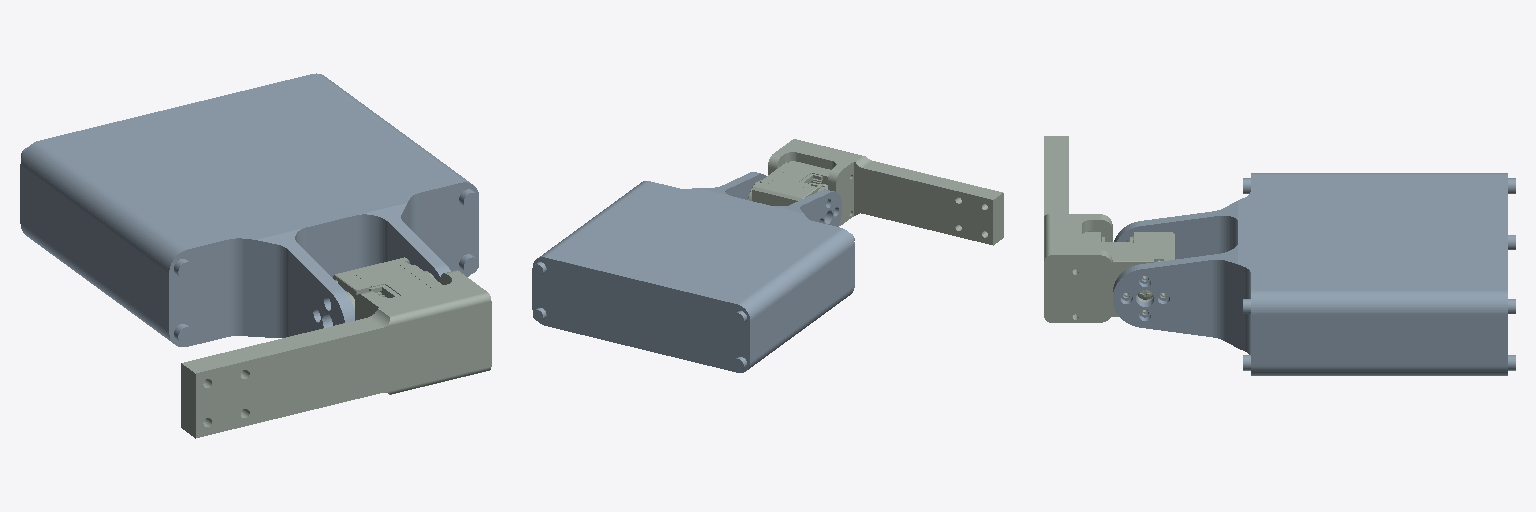
The robot description file, URDF, robot "sysID_XC330":
<?xml version="1.0" ?><robot name="sysID_XC330">  
  <link name="xc330">    
    <visual>      
      <origin xyz="0 0 0" rpy="0 -0 0"/>      
      <geometry>        
        <mesh filename="package:///meshes/xc330_visual.stl"/>        
      </geometry>      
      <material name="xc330_material">        
        <color rgba="0.66223384147661523702 0.70298350489095318139 0.66642745066522124375 1.0"/>        
      </material>      
    </visual>    
    <collision>      
      <origin xyz="0 0 0" rpy="0 -0 0"/>      
      <geometry>        
        <mesh filename="package:///meshes/xc330_collision.stl"/>        
      </geometry>      
    </collision>    
    <inertial>      
      <origin xyz="0.067045862671275713307 0.0086608910511881617711 0.0041222017357433436702" rpy="0 0 0"/>      
      <mass value="0.0337537472645257422"/>      
      <inertia ixx="6.4808662584696893666e-06" ixy="-4.1297757912061735342e-06" ixz="3.5490498700440220868e-07" iyy="1.5492252679530571979e-05" iyz="3.1297490799071719933e-07" izz="1.9627489127736090014e-05"/>      
    </inertial>    
  </link>  

  <link name="arm_330">    
    <visual>      
      <origin xyz="0 0 0" rpy="0 -0 0"/>      
      <geometry>        
        <mesh filename="package:///meshes/arm_330_visual.stl"/>        
      </geometry>      
      <material name="arm_330_material">        
        <color rgba="0.604714181969083997 0.66722689075630248201 0.72422035480858992784 1.0"/>        
      </material>      
    </visual>    
    <collision>      
      <origin xyz="0 0 0" rpy="0 -0 0"/>      
      <geometry>        
        <mesh filename="package:///meshes/arm_330_collision.stl"/>        
      </geometry>      
    </collision>    
    <inertial>      
      <origin xyz="0.069949643575130379669 -1.7693577120423160926e-17 -0.014500000000000025022" rpy="0 0 0"/>      
      <mass value="0.094500000000000014544"/>      
      <inertia ixx="9.6648053576060919279e-05" ixy="2.3028708253476290468e-20" ixz="2.3505164286306834409e-20" iyy="0.00017555912455268309937" iyz="3.899833921574180802e-16" izz="9.8086683715700140568e-05"/>      
    </inertial>    
  </link>  

  <joint name="joint_0" type="revolute">    
    <origin xyz="0.089400000000000034994 0.021949857927858897055 0.0034193959459662111658" rpy="1.5707963267948978903 -1.6653345369377634068e-16 1.5707963267948961139"/>    
    <parent link="xc330"/>    
    <child link="arm_330"/>    
    <axis xyz="0 0 1"/>    
    <limit effort="1" velocity="20" lower="-1.3962634015954635824" upper="1.3962634015954635824"/>    
    <joint_properties friction="0.0"/>    
  </joint>  


</robot>

--- What the picture shows (computed from the rendered views, not written in the file) ---
Views: 3 orthographic renders of the robot side by side, from view 1: azimuth 30°, elevation 25°; view 2: azimuth 150°, elevation 25°; view 3: azimuth 270°, elevation 25°.
Robot: sysID_XC330 — 2 links, 1 joints (1 revolute); root link xc330; default pose: every joint at zero.
Links seen in each view (by area): view 1: arm_330, xc330; view 2: arm_330, xc330; view 3: arm_330, xc330.
Boxes of the visible links, x1,y1,x2,y2 form: arm_330: (20,73,478,346); xc330: (181,257,491,438); arm_330: (532,172,854,372); xc330: (748,139,1003,245); arm_330: (1113,173,1515,375); xc330: (1044,136,1174,322).
Size in the robot's own frame: 0.1299 by 0.152 by 0.03 metres.
Meshes: 2 distinct files referenced, 2 mesh visuals loaded (2 binary STL).